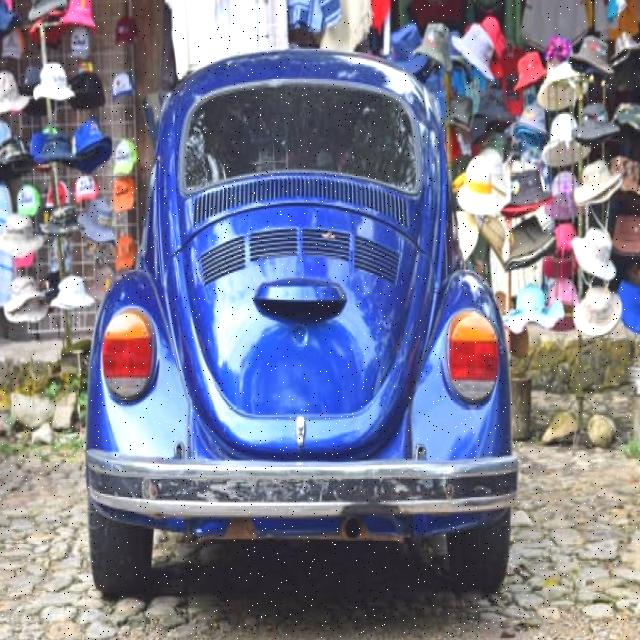car: (78, 66, 510, 588)
